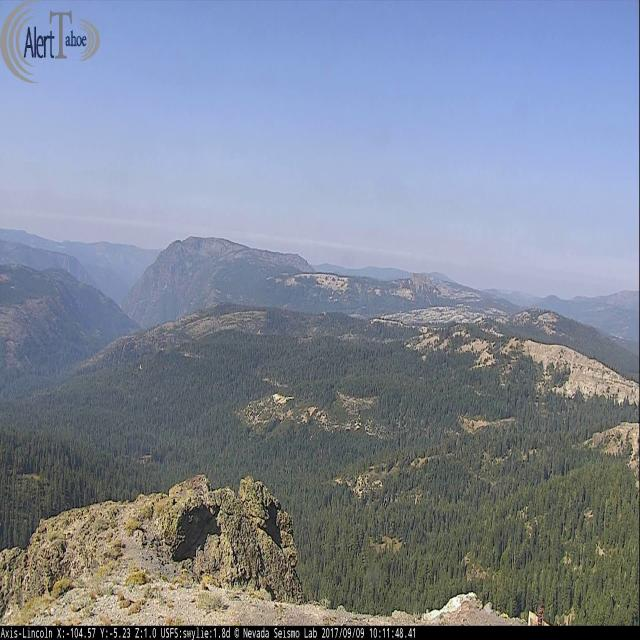smoke: (350, 294, 371, 321)
